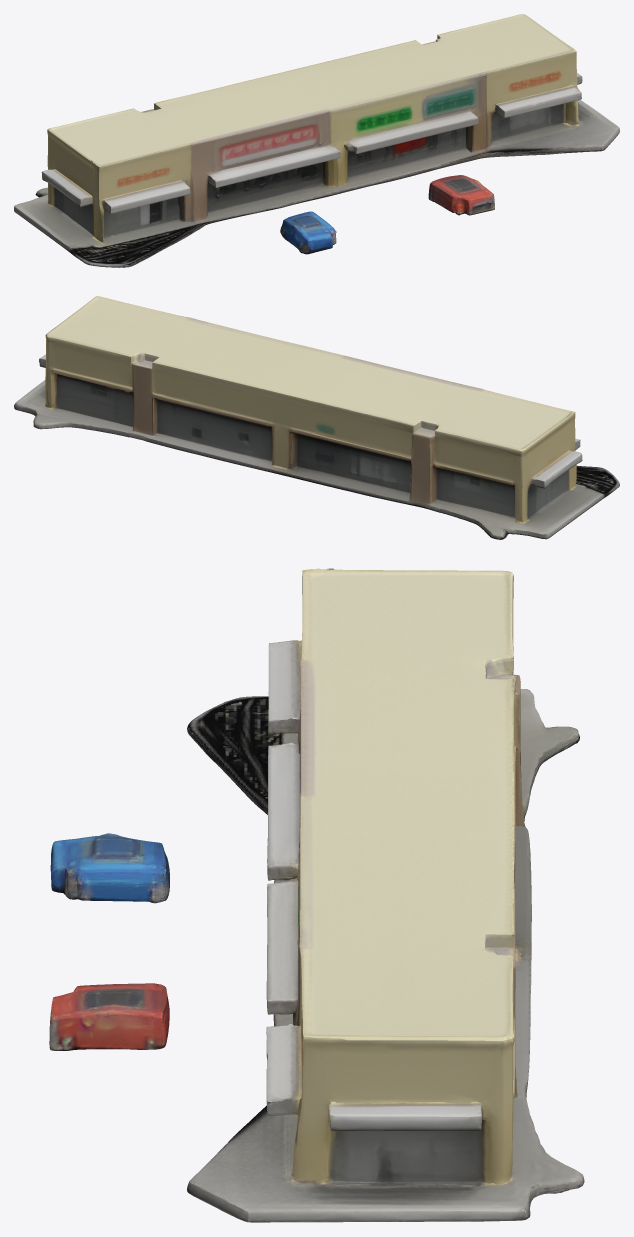
Rendered from strip-mall.glb.
3 renders of one model, top to bottom at view 1: azimuth 30°, elevation 25°; view 2: azimuth 150°, elevation 25°; view 3: azimuth 270°, elevation 25°, orthographic. The views are drawn at different scales.
Parts seen in each view (by area): view 1: geometry_0; view 2: geometry_0; view 3: geometry_0.
Boxes of the visible parts, <box> form: geometry_0: <box>14,14,619,267</box>; geometry_0: <box>14,296,619,539</box>; geometry_0: <box>49,568,584,1222</box>.
Bounding box in the file's own units: 1 × 0.1451 × 0.4321.
Materials: 1 (1 with a texture image).
